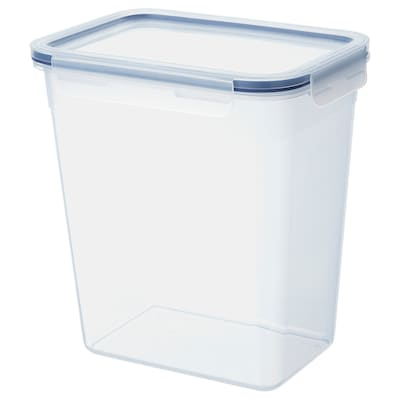PlasticBox: (28, 6, 373, 394)
